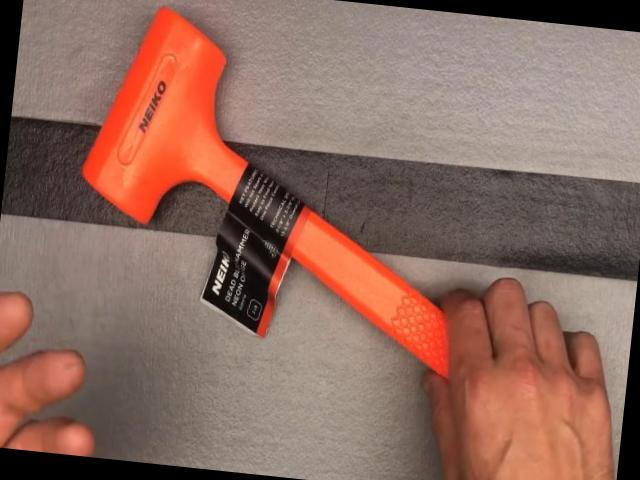hammer: (58, 0, 640, 454)
